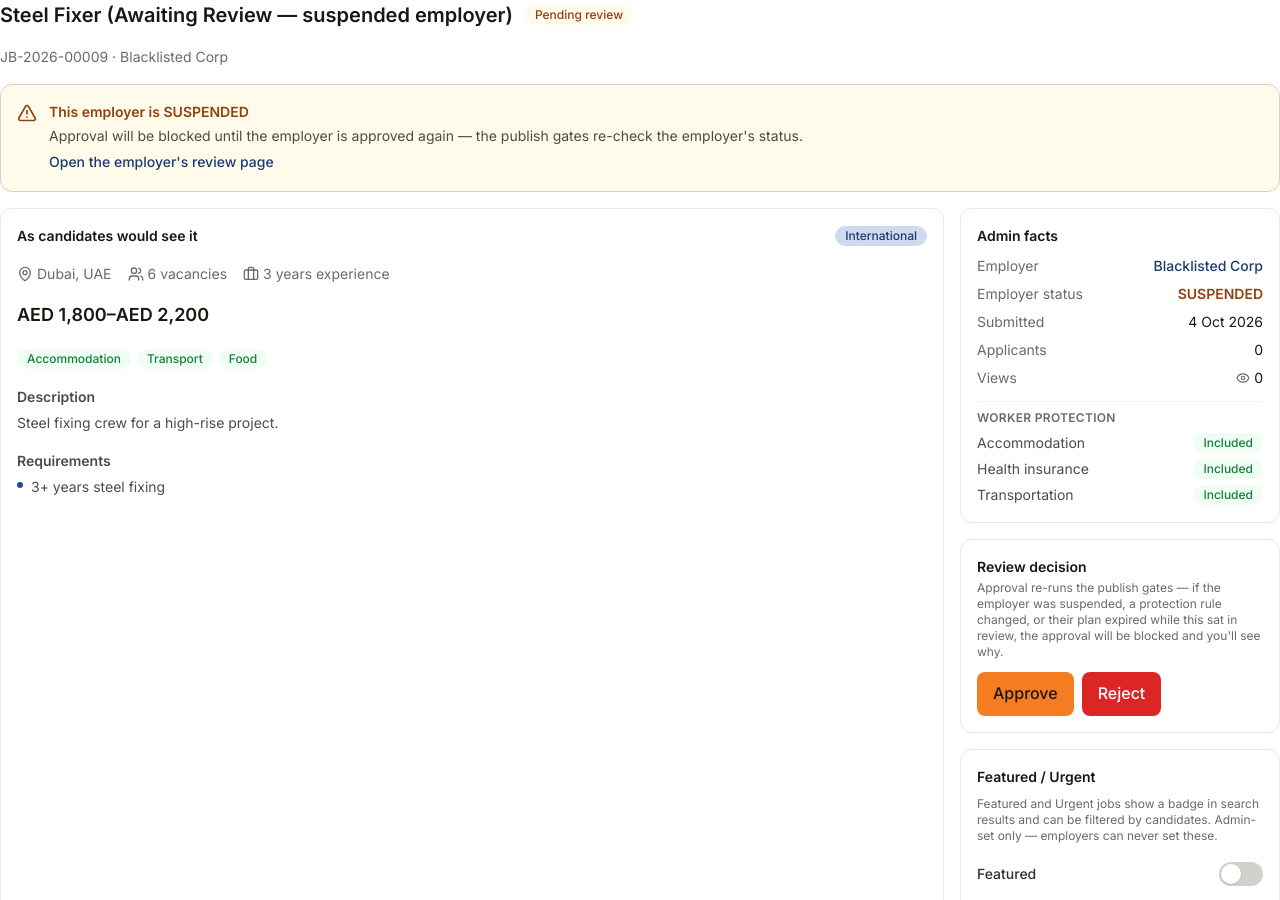
Test: GateFailureExplainer — the three honest failures › EMPLOYER_NOT_APPROVED → the suspension explanation + the employer-page remedy link
expect the heading "Steel Fixer (Awaiting Review — suspended employer)" is shown: met, box [0, 0, 513, 30]
Click the button "Approve" at (1025, 694), box [977, 672, 1074, 716]
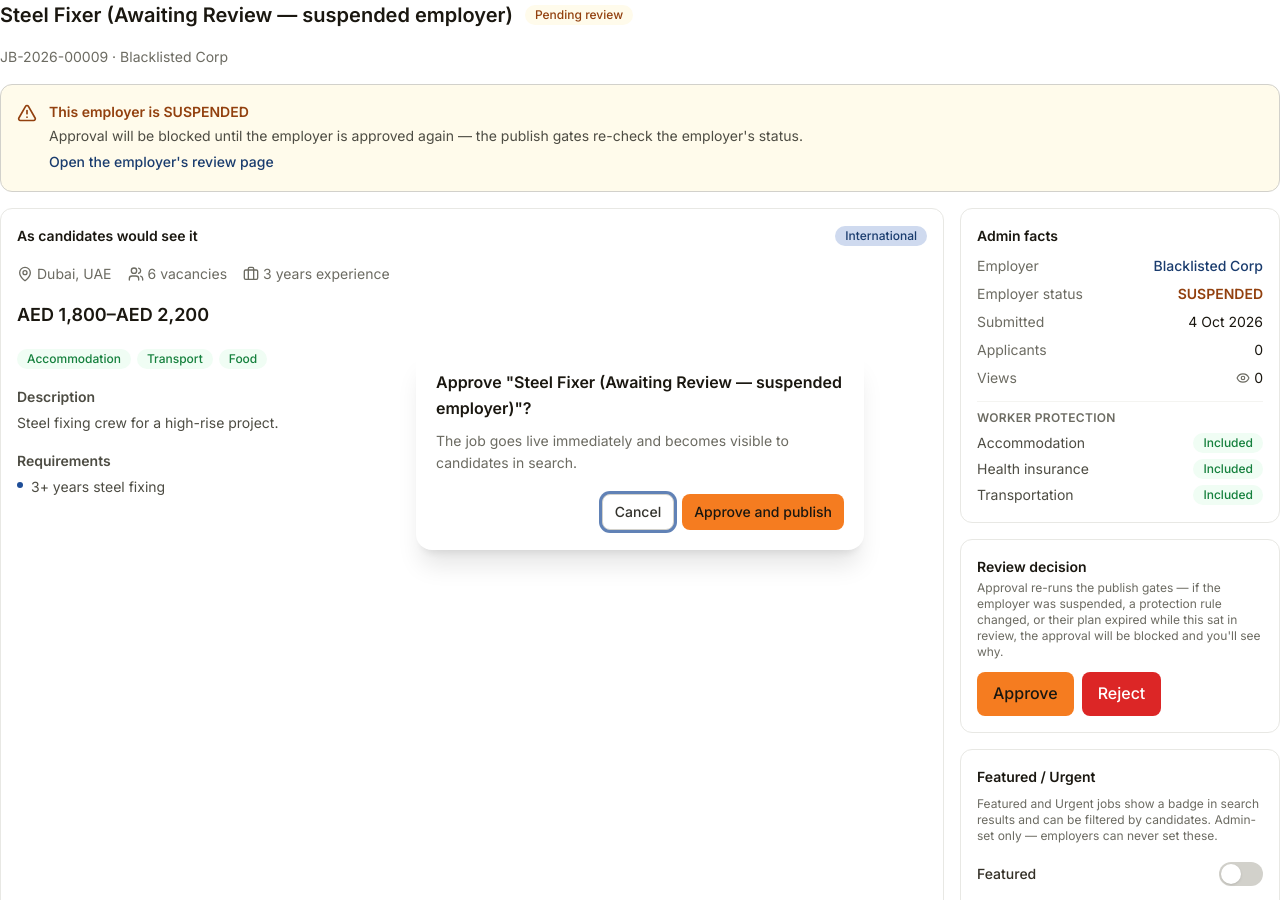
Click the button "Approve and publish" at (763, 512), box [682, 494, 844, 530]
(page scrolled)
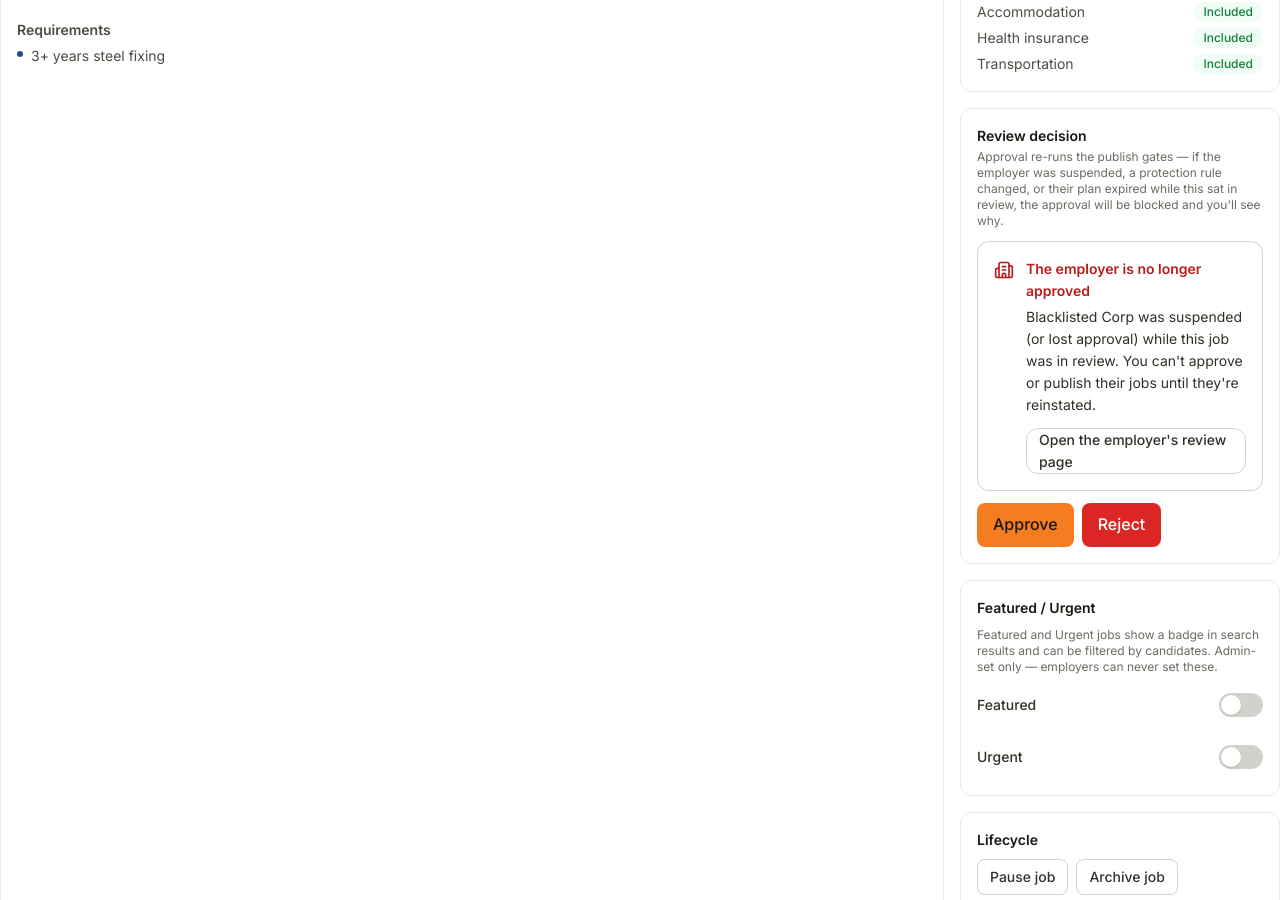
expect the text "The employer is no longer approved" is shown: met, box [1026, 260, 1201, 299]
expect the text "until they're reinstated" is shown: met, box [1026, 308, 1243, 413]
